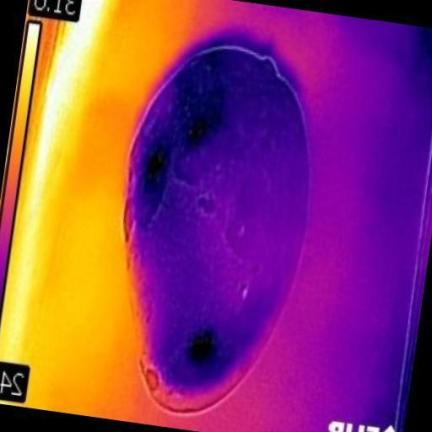mango: (126, 47, 309, 410)
